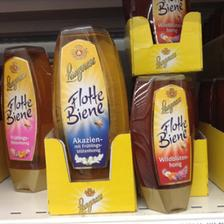Honig: (53, 24, 127, 184), (128, 74, 196, 214), (3, 44, 50, 192)
